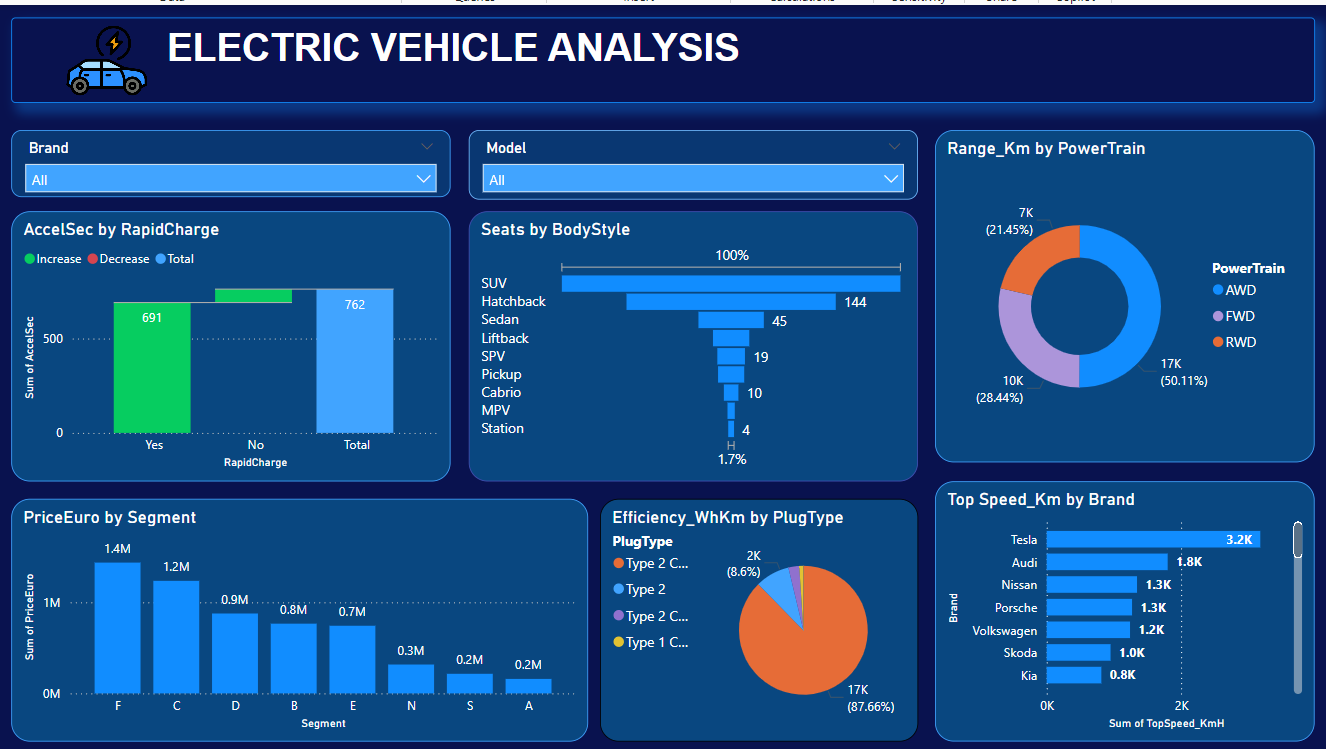

The dashboard page shown, as its layout file describes it:
{"tool":"powerbi","page":{"name":"Page 1","canvas":[1280,720],"ordinal":0},"visuals":[{"type":"barChart","title":"Top Speed_Km by Brand","fields":{"Category":["ElectricCarData_Clean.Brand"],"Y":["Sum(ElectricCarData_Clean.TopSpeed_KmH)"]},"box":[902.9,459.7,366.4,251.1],"z":0},{"type":"textbox","box":[11,12.3,1258.3,82.3],"z":1},{"type":"image","box":[56.3,12.3,93.3,82.3],"z":2},{"type":"donutChart","title":"Range_Km by PowerTrain","fields":{"Category":["ElectricCarData_Clean.PowerTrain"],"Y":["Sum(ElectricCarData_Clean.Range_Km)"]},"box":[902.9,120.8,366.4,321.1],"z":3},{"type":"slicer","fields":{"Values":["ElectricCarData_Clean.Brand"]},"box":[11,120.8,424,64.5],"z":4},{"type":"slicer","fields":{"Values":["ElectricCarData_Clean.Model"]},"box":[452.8,120.8,433.6,67.2],"z":5},{"type":"funnel","title":" Seats by BodyStyle","fields":{"Y":["Sum(ElectricCarData_Clean.Seats)"],"Category":["ElectricCarData_Clean.BodyStyle"]},"box":[452.8,199,433.6,260.7],"z":6},{"type":"clusteredColumnChart","title":"PriceEuro by Segment","fields":{"Y":["Sum(ElectricCarData_Clean.PriceEuro)"],"Category":["ElectricCarData_Clean.Segment"]},"box":[11,476.2,557.1,234.6],"z":7},{"type":"waterfallChart","title":"AccelSec by RapidCharge","fields":{"Category":["ElectricCarData_Clean.RapidCharge"],"Y":["Sum(ElectricCarData_Clean.AccelSec)"]},"box":[11,199,424,260.7],"z":8},{"type":"pieChart","title":" Efficiency_WhKm by PlugType","fields":{"Category":["ElectricCarData_Clean.PlugType"],"Y":["Sum(ElectricCarData_Clean.Efficiency_WhKm)"]},"box":[579.1,476.2,307.4,234.6],"z":9}]}

Visuals, with their boxes in screenshot pixels (x1, y1, x2, y2), scaled from the page's 1280x720 canvas onto the 1326x749 screenshot:
"Top Speed_Km by Brand" barChart: pyautogui.locateOnScreen(935, 478, 1315, 739)
textbox: pyautogui.locateOnScreen(11, 13, 1315, 98)
image: pyautogui.locateOnScreen(58, 13, 155, 98)
"Range_Km by PowerTrain" donutChart: pyautogui.locateOnScreen(935, 126, 1315, 460)
slicer - ElectricCarData_Clean.Brand: pyautogui.locateOnScreen(11, 126, 451, 193)
slicer - ElectricCarData_Clean.Model: pyautogui.locateOnScreen(469, 126, 918, 196)
" Seats by BodyStyle" funnel: pyautogui.locateOnScreen(469, 207, 918, 478)
"PriceEuro by Segment" clusteredColumnChart: pyautogui.locateOnScreen(11, 495, 589, 739)
"AccelSec by RapidCharge" waterfallChart: pyautogui.locateOnScreen(11, 207, 451, 478)
" Efficiency_WhKm by PlugType" pieChart: pyautogui.locateOnScreen(600, 495, 918, 739)
